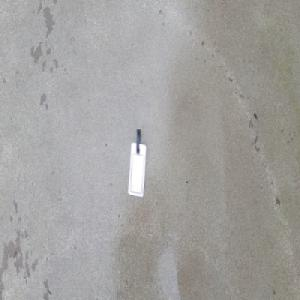LuggageTag: (126, 129, 147, 201)
